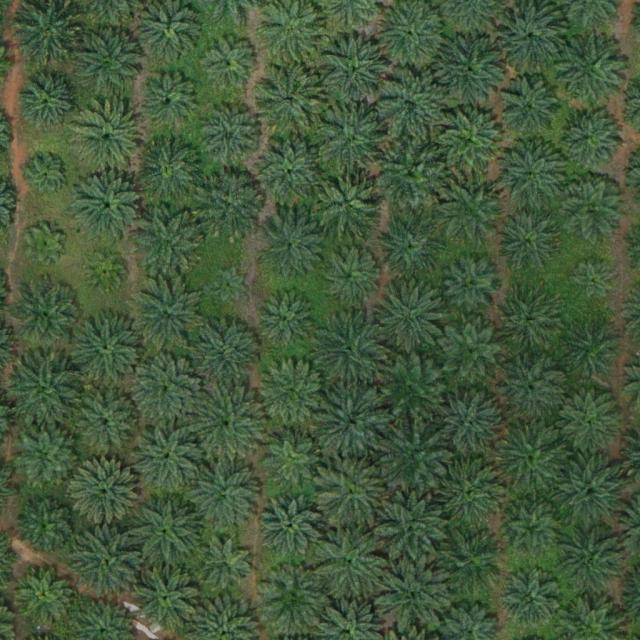Healthy: (72, 104, 143, 175), (435, 32, 506, 103), (316, 311, 387, 382), (316, 387, 387, 458), (256, 139, 327, 210), (257, 214, 328, 285), (130, 277, 201, 348), (132, 561, 203, 632), (379, 420, 450, 491), (377, 561, 448, 632), (497, 419, 568, 490), (557, 524, 628, 595), (15, 65, 85, 136), (76, 25, 146, 96), (136, 68, 206, 139), (376, 71, 446, 142), (557, 37, 627, 108), (438, 177, 508, 248), (434, 390, 504, 461), (375, 351, 445, 422), (319, 107, 389, 178), (313, 169, 383, 240), (258, 359, 328, 430), (195, 173, 265, 244), (134, 138, 204, 209), (133, 354, 203, 425), (72, 389, 142, 460), (12, 281, 82, 352), (11, 357, 81, 428), (71, 529, 141, 600), (130, 424, 200, 495), (132, 495, 202, 566), (189, 462, 259, 533), (259, 564, 329, 635), (376, 495, 447, 565), (439, 457, 509, 528), (253, 65, 323, 135), (321, 37, 391, 107), (499, 142, 569, 212), (496, 355, 566, 425), (437, 108, 507, 178), (377, 140, 447, 210), (375, 210, 445, 280), (376, 280, 446, 350), (192, 318, 262, 388), (193, 389, 263, 459), (136, 208, 206, 278), (74, 174, 144, 244), (72, 315, 142, 385), (72, 459, 142, 529), (317, 458, 387, 528), (318, 528, 388, 598), (437, 529, 507, 599), (558, 457, 628, 527), (200, 105, 263, 168), (499, 78, 562, 141), (560, 178, 623, 241), (560, 391, 623, 454), (17, 565, 80, 628), (500, 569, 563, 632), (560, 108, 622, 171), (562, 319, 624, 382), (498, 208, 560, 271), (496, 291, 558, 354), (442, 256, 504, 319), (442, 321, 504, 384), (319, 245, 382, 307), (255, 288, 318, 350), (18, 425, 80, 488), (19, 494, 81, 557), (196, 536, 258, 599), (261, 425, 323, 488), (259, 494, 321, 557), (204, 37, 259, 92), (504, 505, 559, 560)
Small: (569, 260, 616, 307), (210, 265, 249, 305), (29, 157, 69, 196), (87, 253, 126, 292), (26, 226, 65, 265)
